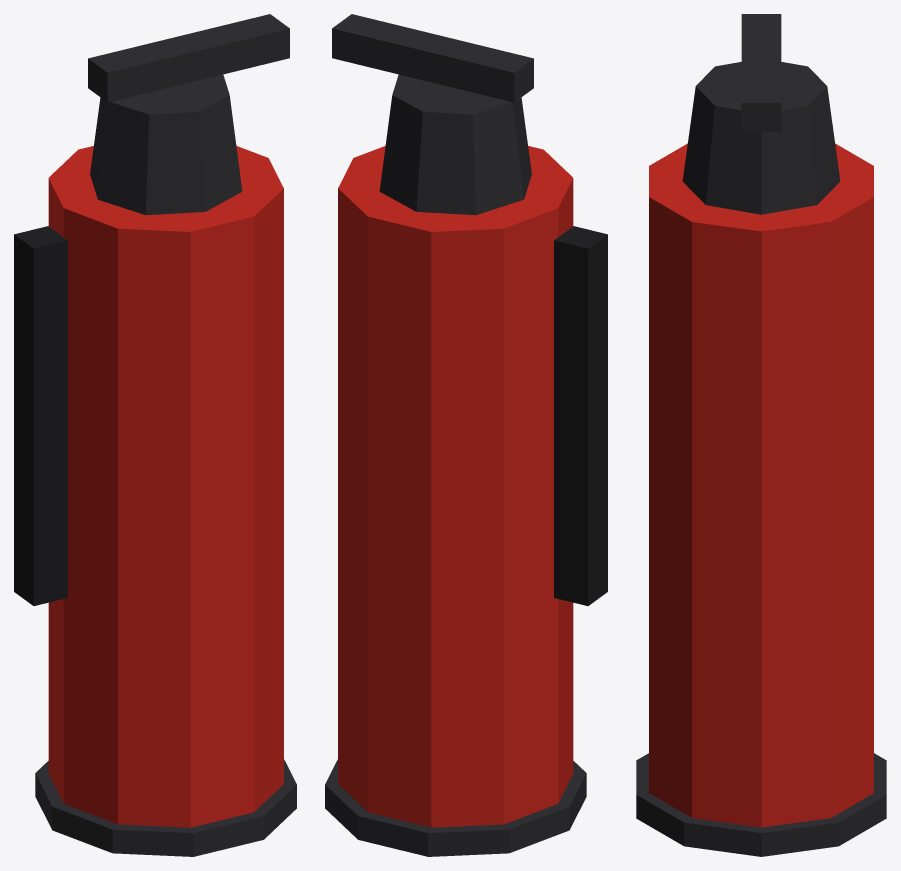
The model's file is extinguisher.glb.
3 views of the same model, side by side, from view 1: azimuth 30°, elevation 25°; view 2: azimuth 150°, elevation 25°; view 3: azimuth 270°, elevation 25° (orthographic).
Parts seen in each view (by area): view 1: body, hose, neck, handle, foot; view 2: body, hose, neck, handle, foot; view 3: body, neck, foot, handle.
Part boxes in pixels (x1=…): body: x1=48, y1=146, x2=283, y2=827; hose: x1=14, y1=226, x2=67, y2=605; neck: x1=90, y1=74, x2=242, y2=215; handle: x1=88, y1=14, x2=289, y2=102; foot: x1=35, y1=759, x2=296, y2=856; body: x1=338, y1=146, x2=573, y2=827; hose: x1=554, y1=226, x2=607, y2=605; neck: x1=379, y1=74, x2=531, y2=215; handle: x1=332, y1=14, x2=533, y2=102; foot: x1=325, y1=759, x2=586, y2=856; body: x1=649, y1=143, x2=873, y2=827; neck: x1=682, y1=62, x2=840, y2=214; foot: x1=636, y1=753, x2=886, y2=856; handle: x1=741, y1=14, x2=781, y2=132.
Bounding box in the file's own units: 0.225 × 0.6325 × 0.1902.
